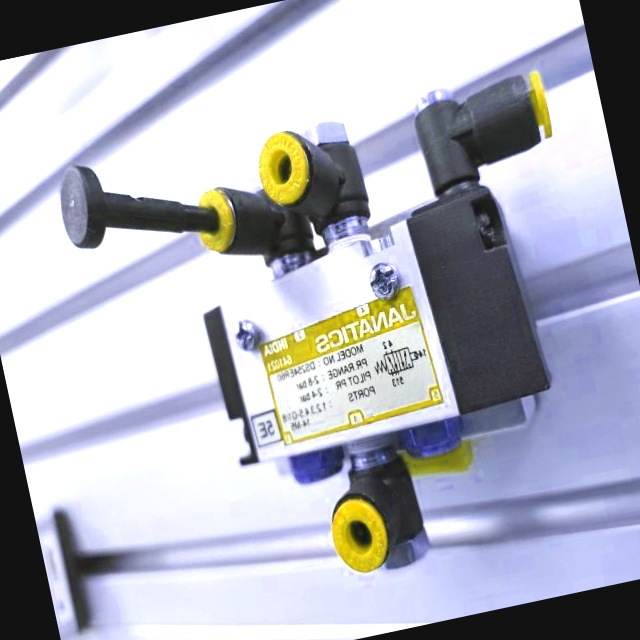5by2 DCV: (35, 46, 640, 635)
